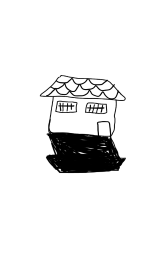closed_window: (54, 99, 80, 115), (84, 102, 109, 116)
door: (94, 119, 114, 138)
roof: (38, 74, 128, 104)
shadow: (41, 130, 129, 177)
small_house: (1, 1, 161, 260)
wall: (47, 94, 119, 140)
